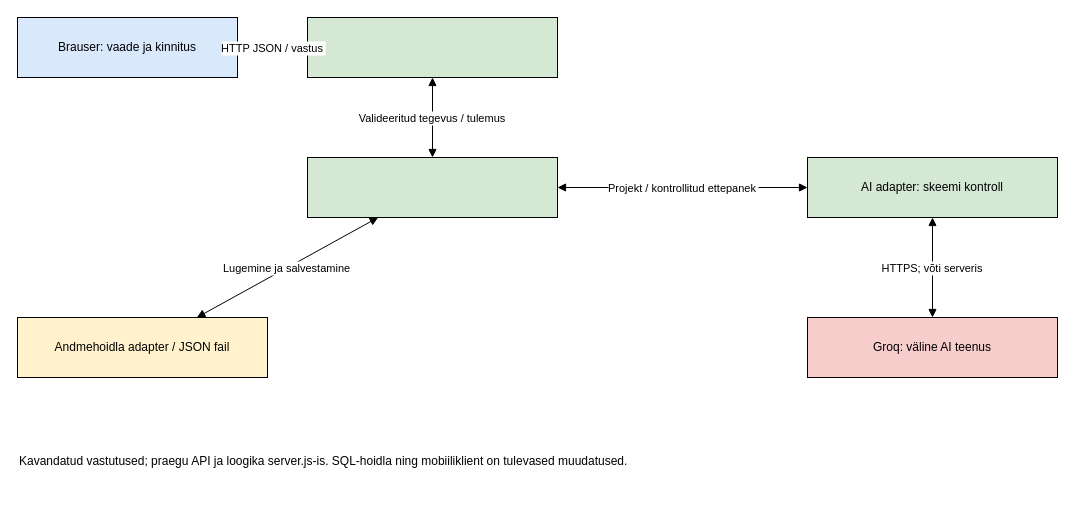
The diagram is 1075 pixels wide and 525 high, and some of its shapes have lost their labels. Each missing label, with the centre of its shape:
"Node.js API: sisendi valideerimine" goes at (432,47).
"Projekti ja backlogi loogika" goes at (432,187).
